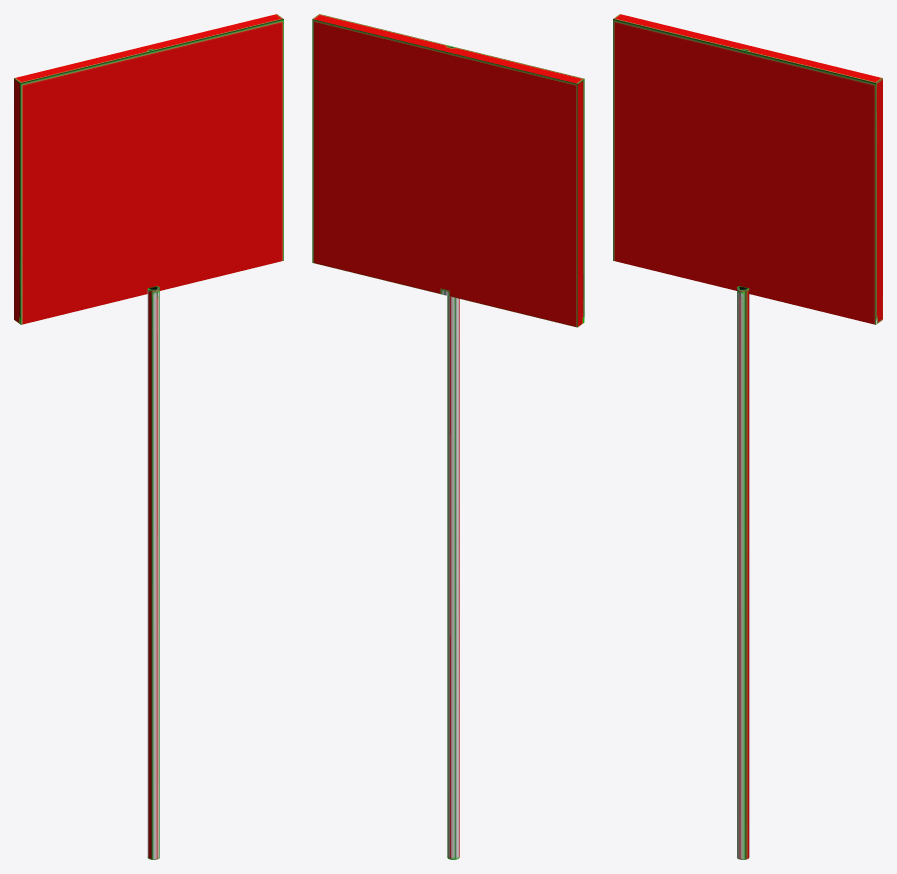
Rendered from Flag1.DAE.
3 renders of one model, left to right at view 1: azimuth 30°, elevation 25°; view 2: azimuth 150°, elevation 25°; view 3: azimuth 330°, elevation 25°, orthographic.
Visible parts, largest first — view 1: Box01; view 2: Box01; view 3: Box01.
Part boxes in pixels (x1,y1,x2,y2): Box01: (14,14,283,859); Box01: (312,14,584,859); Box01: (613,14,882,859).
Bounding box in the file's own units: 24.18 × 70.75 × 1.83.
